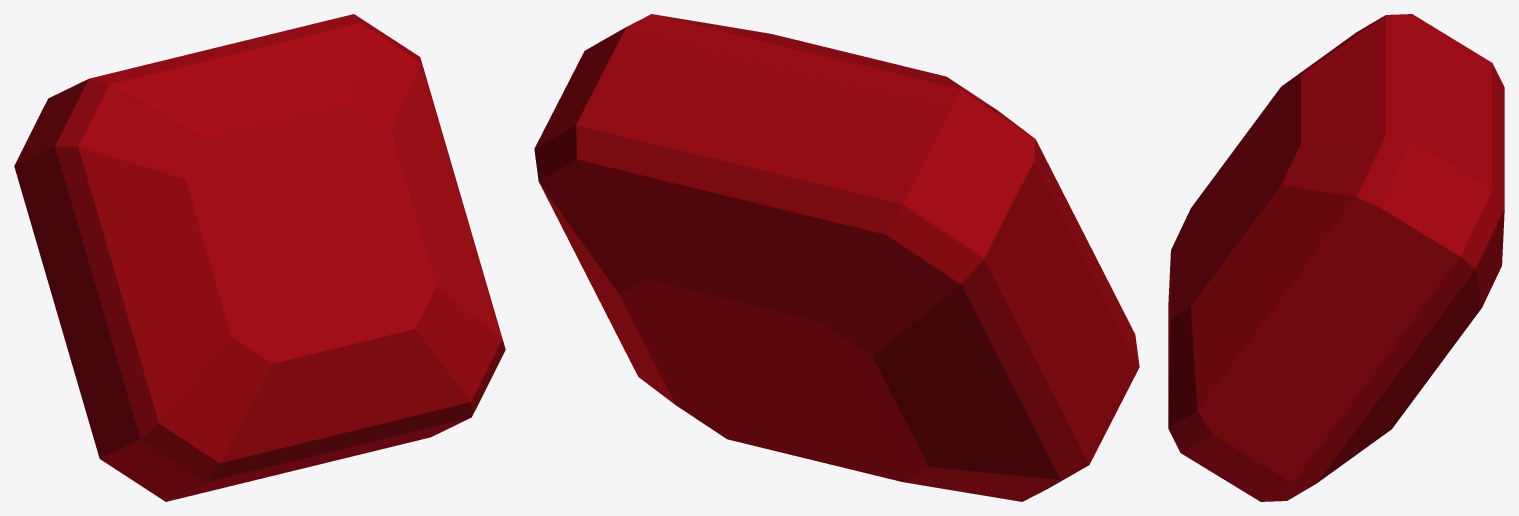
File: MAU.fbx
3 renders of one model, left to right at view 1: azimuth 30°, elevation 25°; view 2: azimuth 150°, elevation 25°; view 3: azimuth 270°, elevation 25°, orthographic. The views are drawn at different scales.
Visible parts, largest first — view 1: MAU; view 2: MAU; view 3: MAU.
Part boxes in pixels (x1,y1,x2,y2): MAU: (14,14,505,501); MAU: (534,14,1139,501); MAU: (1168,14,1504,501).
Bounding box in the file's own units: 101 × 97.83 × 81.63.
